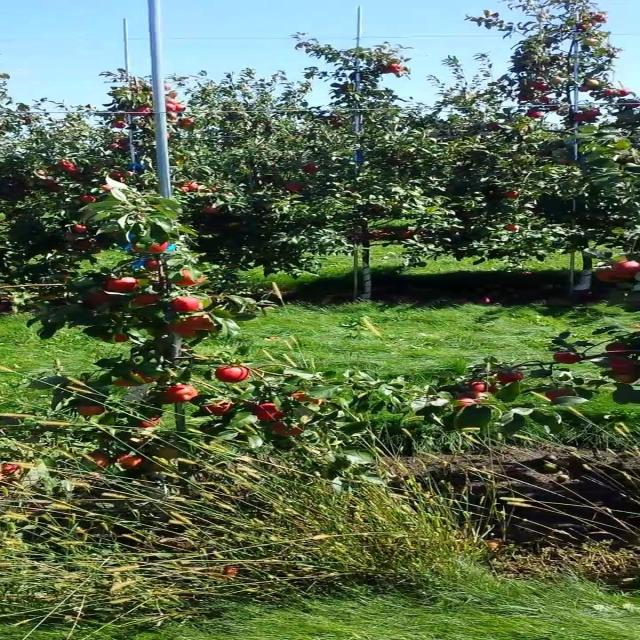apple: (163, 384, 199, 403), (113, 372, 155, 388), (212, 368, 249, 384), (255, 404, 284, 423), (596, 268, 629, 284), (291, 392, 325, 406), (106, 280, 142, 293), (177, 272, 206, 288), (134, 244, 171, 255), (454, 396, 484, 409), (611, 264, 638, 278), (170, 324, 197, 338), (205, 404, 235, 416), (77, 404, 107, 416), (191, 316, 215, 331), (554, 352, 583, 364), (497, 372, 526, 384), (120, 456, 146, 469), (276, 424, 304, 436), (92, 452, 112, 468), (611, 360, 635, 373), (596, 272, 622, 284), (177, 300, 201, 312), (156, 448, 180, 460), (134, 296, 160, 307), (141, 416, 164, 428), (92, 292, 114, 304), (547, 392, 572, 402), (611, 344, 629, 356), (6, 464, 21, 478), (476, 384, 498, 392), (148, 260, 164, 271), (127, 440, 148, 448), (618, 376, 638, 384), (113, 336, 130, 344), (490, 384, 498, 393)
